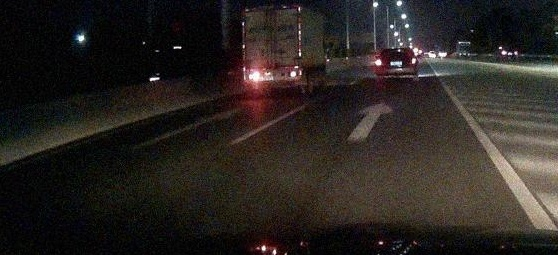L_light: (248, 72, 259, 80), (375, 60, 382, 66)
R_light: (289, 70, 301, 78), (411, 58, 416, 64)
T_light: (268, 9, 277, 11), (393, 49, 398, 51)
night-left: (241, 5, 304, 96)
night-right: (374, 47, 416, 84)
